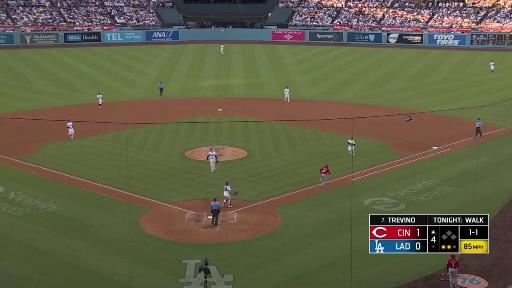pitcher: (206, 148, 219, 173)
